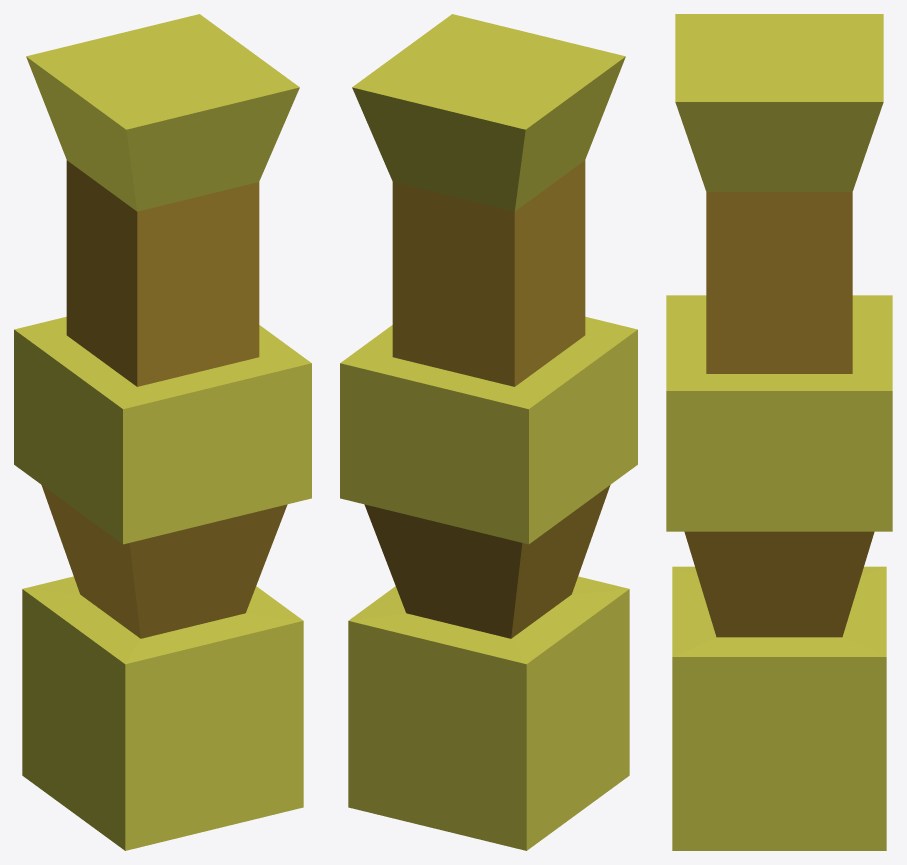
Rendered from desertpillar2.fbx.
3 renders of one model, left to right at view 1: azimuth 30°, elevation 25°; view 2: azimuth 150°, elevation 25°; view 3: azimuth 270°, elevation 25°, orthographic. The views are drawn at different scales.
Visible parts, largest first — view 1: Cube; view 2: Cube; view 3: Cube.
Part boxes in pixels (left/top/right/bottom): Cube: left=14, top=14, right=311, bottom=850; Cube: left=340, top=14, right=637, bottom=850; Cube: left=666, top=14, right=892, bottom=850.
Size of the model in its own units: 212 by 771 by 212.
